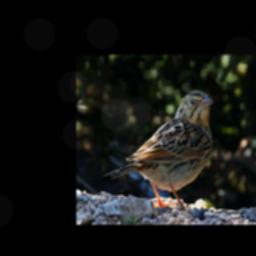Sparrow: (100, 85, 219, 211)
